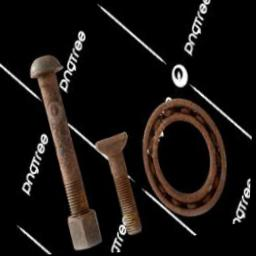Corroded-Bolt: (94, 132, 144, 237)
Corroded-Nut-and-Bolt: (30, 55, 104, 252)
